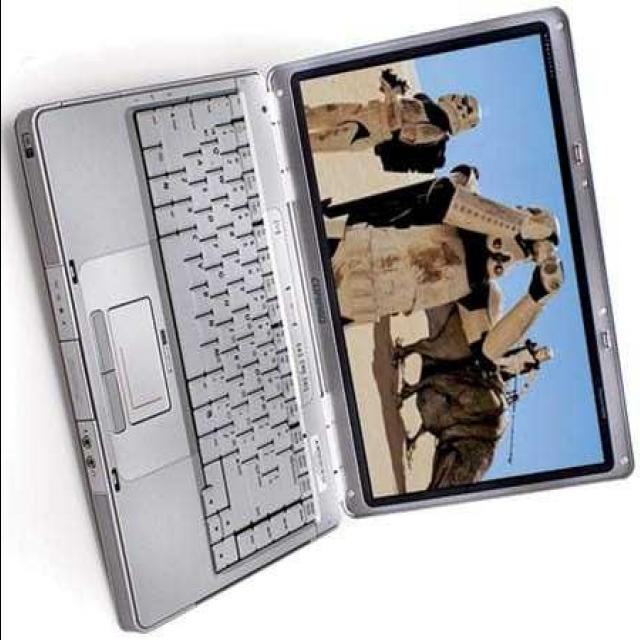laptop: (10, 0, 602, 640)
